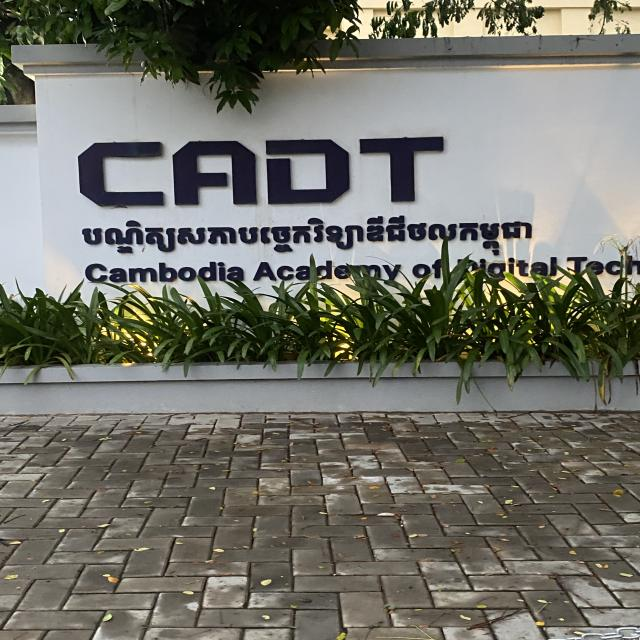Yolov11kh: (74, 208, 539, 260)
